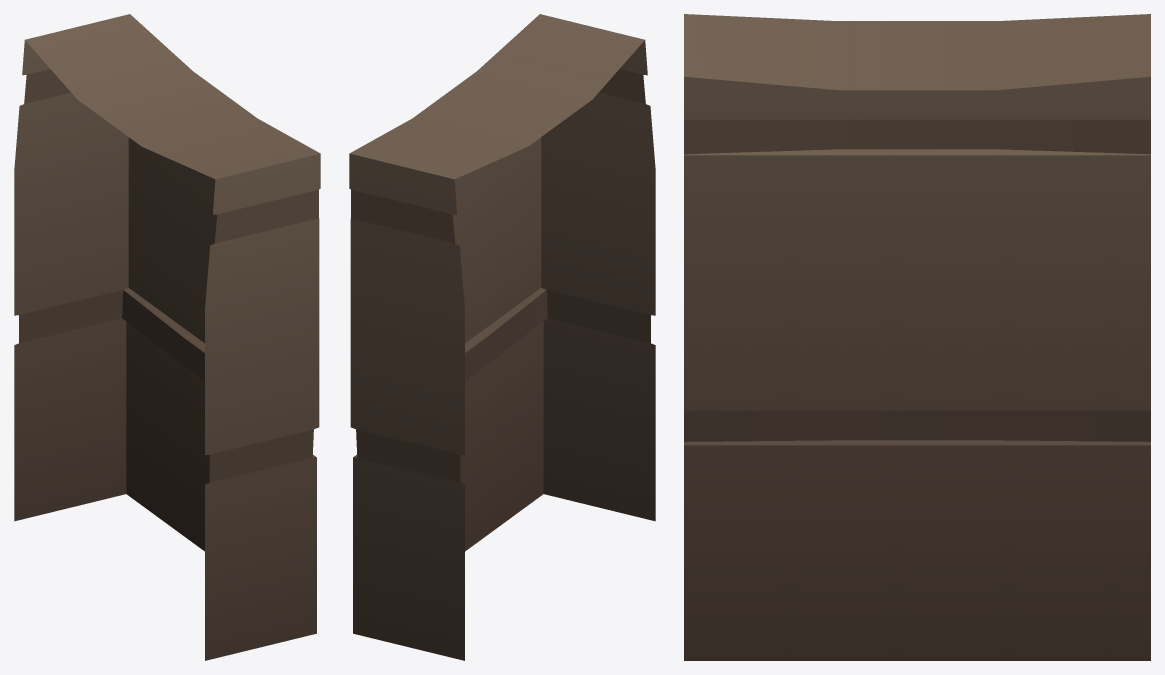
Rendered from pared_2.fbx.
3 renders of one model, left to right at view 1: azimuth 30°, elevation 25°; view 2: azimuth 150°, elevation 25°; view 3: azimuth 270°, elevation 25°, orthographic. The views are drawn at different scales.
Visible parts, largest first — view 1: ParedMedia; view 2: ParedMedia; view 3: ParedMedia.
Part boxes in pixels (x1=…): ParedMedia: x1=14, y1=14, x2=320, y2=660; ParedMedia: x1=349, y1=14, x2=655, y2=660; ParedMedia: x1=684, y1=14, x2=1150, y2=660.
Size of the model in its own units: 207 by 819 by 591.
